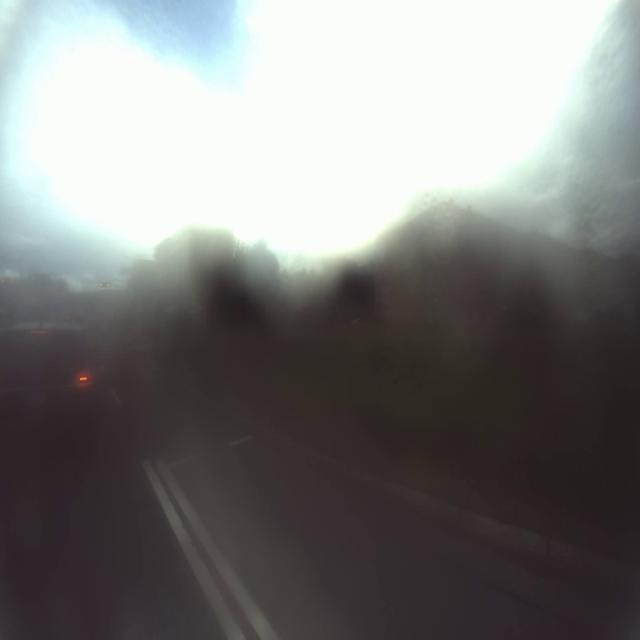car: (3, 305, 112, 478)
